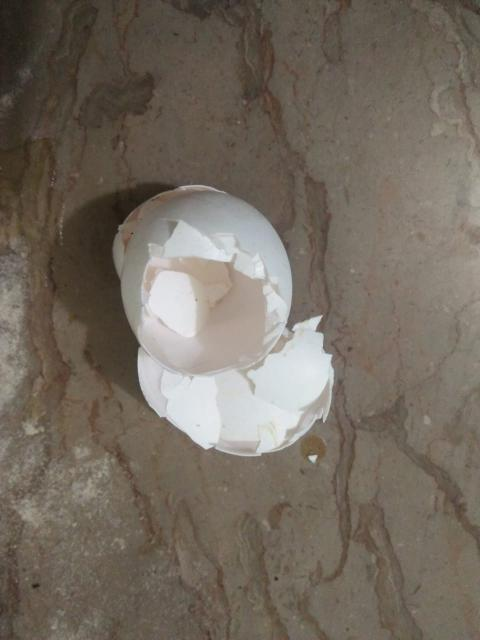Roto: (136, 314, 334, 457), (116, 185, 297, 314)
